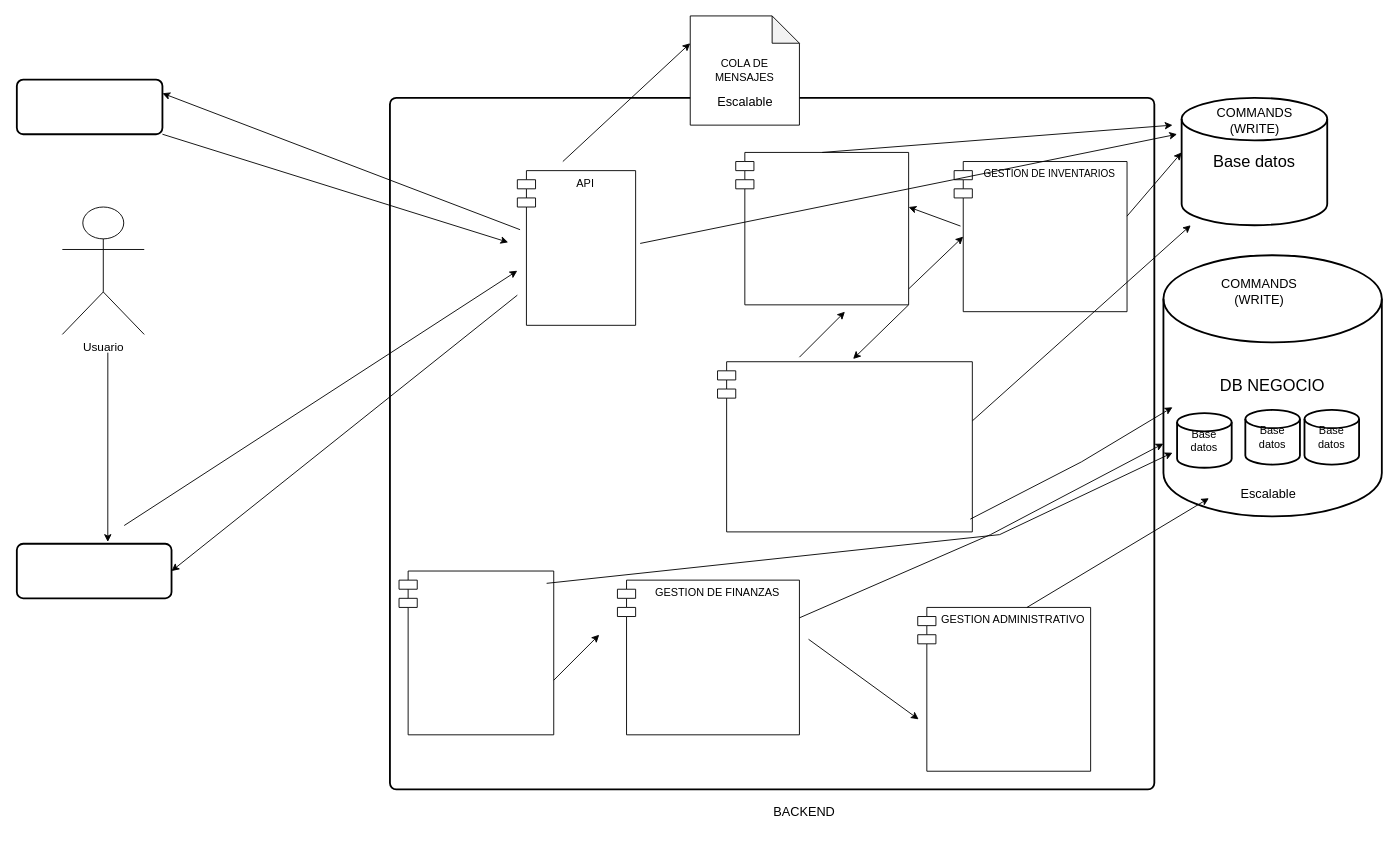
This 1398x842 diagram has some shape labels left out. The shapes that lost their labels are listed below. From the top down, each one's centre as x and y in pixels, then its label:
pixel 89 106: APP Y SISTEMA
pixel 822 228: GESTION DE COMPRAS
pixel 844 446: GESTION DE PEDIDOS
pixel 93 570: FRONTED
pixel 476 652: GESTION DE RECURSOS
